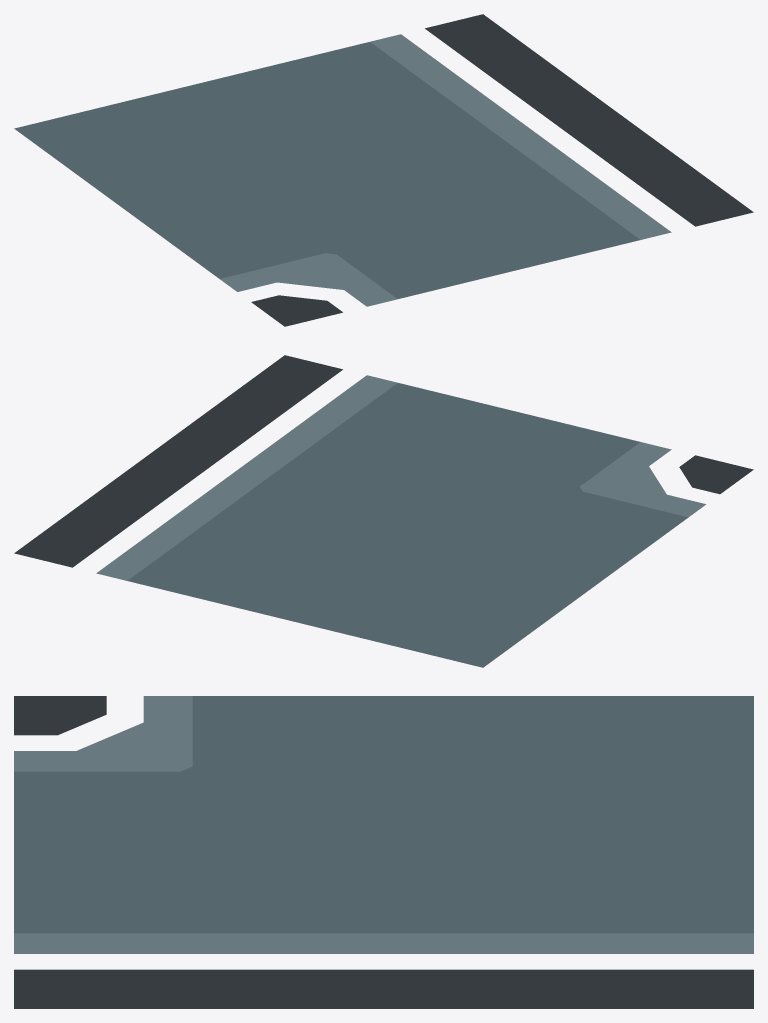
The model's file is Ceiling_type_C_008_002.glb.
3 views of the same model, one above another, from view 1: azimuth 30°, elevation 25°; view 2: azimuth 150°, elevation 25°; view 3: azimuth 270°, elevation 25° (orthographic). The views are drawn at different scales.
Parts seen in each view (by area): view 1: Ceiling_type_C_008.002; view 2: Ceiling_type_C_008.002; view 3: Ceiling_type_C_008.002.
Part boxes in pixels (x1,y1,x2,y2): Ceiling_type_C_008.002: [14, 14, 753, 326]; Ceiling_type_C_008.002: [14, 355, 753, 667]; Ceiling_type_C_008.002: [14, 696, 753, 1008].
Size of the model in its own units: 4 by 0.0455 by 4.
Materials: 2 (2 with a texture image).
